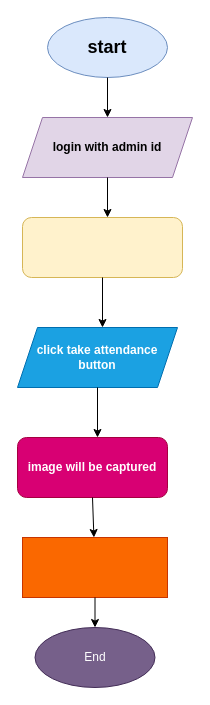
Image size: 210x705. Some labels were removed from this diagram. The shapes that lost their labels are listed below. From the top down, each one's centre as x and y in pixels, then its label:
At [102,247]: "select approprite department & class".
At [95,567]: "encodings will be find from the image".
